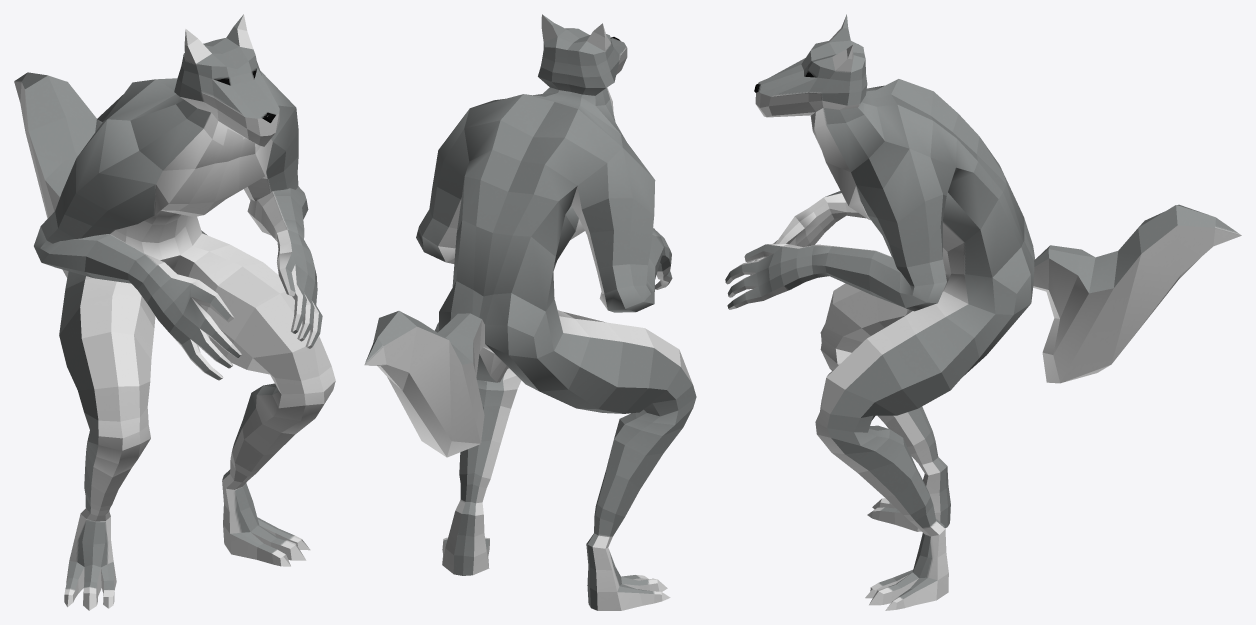
Rendered from WolfIdle_(138).obj.
3 views of the same model, side by side, from view 1: azimuth 30°, elevation 25°; view 2: azimuth 150°, elevation 25°; view 3: azimuth 270°, elevation 25° (orthographic). The views are drawn at different scales.
Parts seen in each view (by area): view 1: Box001; view 2: Box001; view 3: Box001.
Boxes of the visible parts, <box> form: Box001: <box>14,14,335,610</box>; Box001: <box>364,14,696,610</box>; Box001: <box>725,14,1241,610</box>.
Bounding box in the file's own units: 61.2 × 131 × 115.
